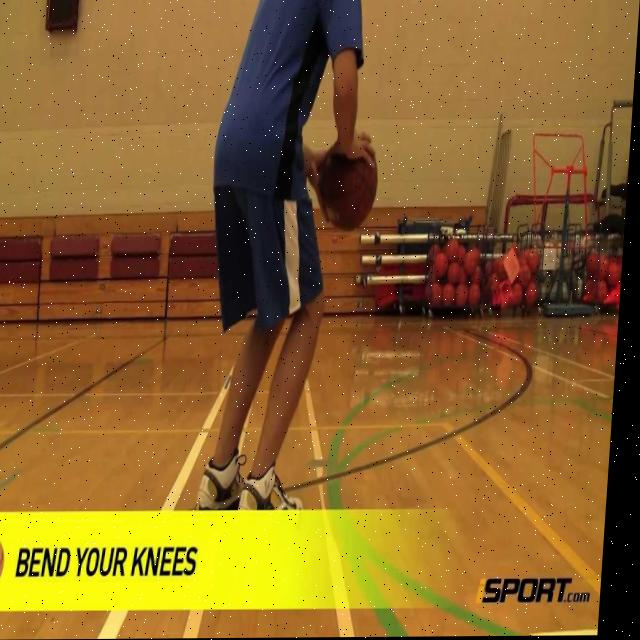basketball: (317, 136, 381, 231), (605, 256, 622, 286), (493, 256, 509, 283), (525, 249, 541, 275), (434, 252, 449, 279), (524, 282, 539, 309), (446, 238, 461, 262), (518, 263, 532, 288), (594, 279, 609, 302), (442, 283, 457, 306), (586, 252, 600, 276), (468, 265, 483, 287), (597, 255, 610, 280), (510, 283, 524, 306), (467, 284, 481, 307), (455, 283, 469, 306), (463, 251, 476, 275), (427, 244, 441, 266), (446, 261, 460, 283), (429, 284, 443, 305), (584, 279, 597, 300), (507, 243, 520, 263)
